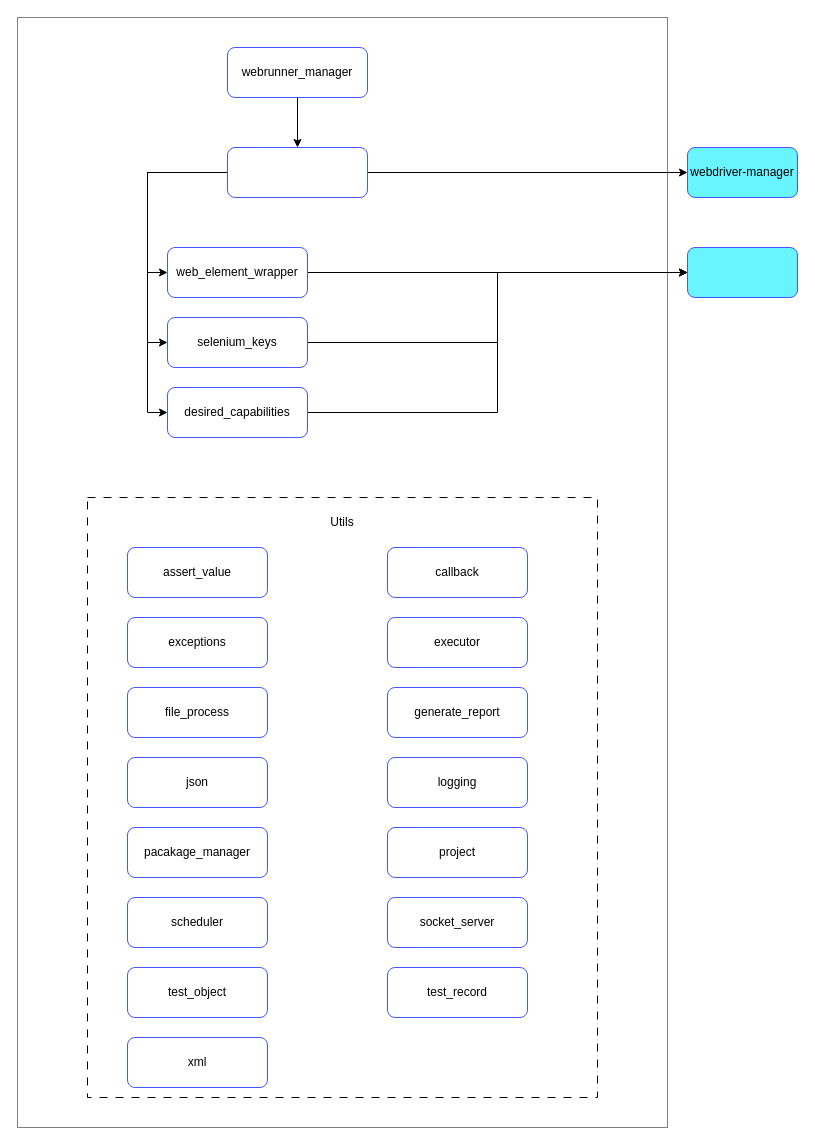
This 815x1145 diagram has some shape labels left out. Here are the shapes that lost their labels. From the top down, the centre of each, then its label:
point 297,172: webdriver_wrapper
point 742,272: Selenium
